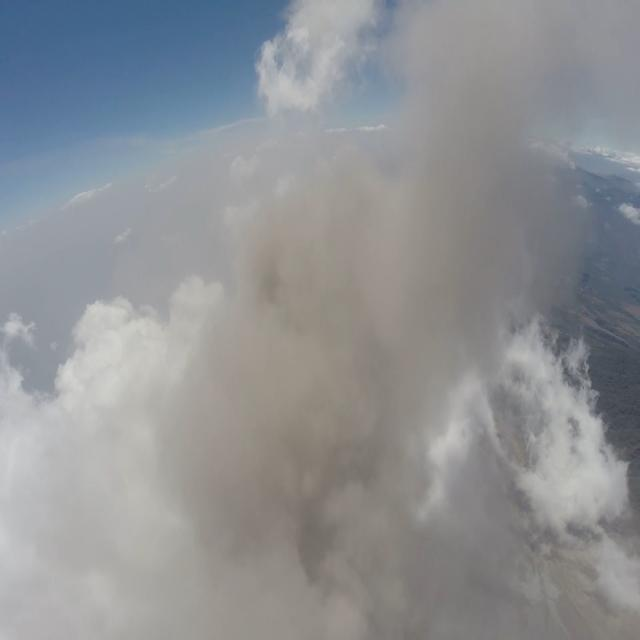Plume: (163, 1, 626, 640)
